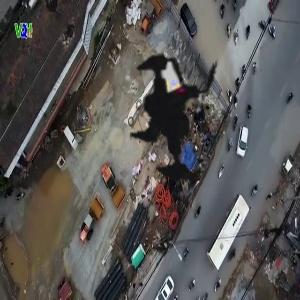drone: (78, 13, 291, 226)
